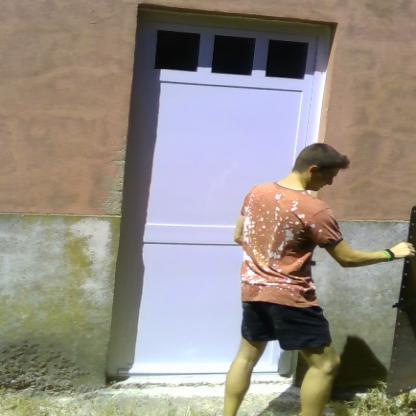door: (118, 11, 290, 370)
